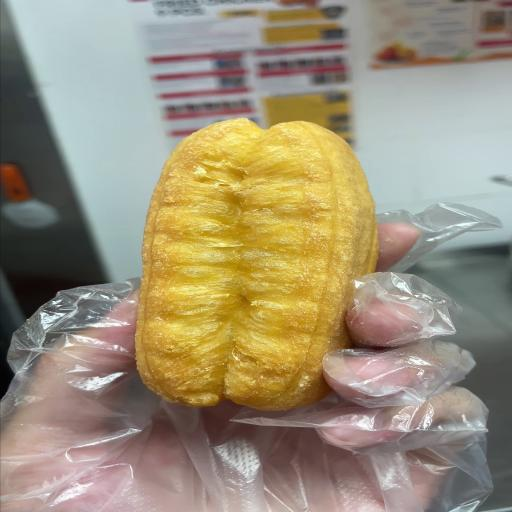brand_golden_good: (136, 119, 377, 410)
